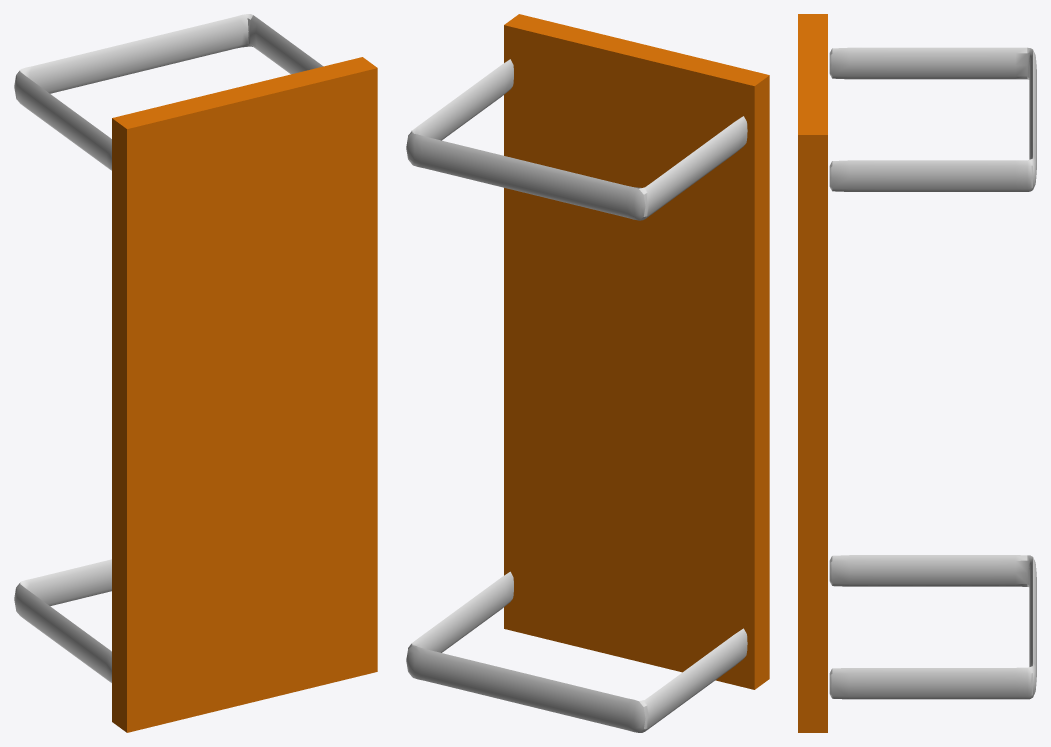
File: Desc.fbx
3 views of the same model, side by side, from view 1: azimuth 30°, elevation 25°; view 2: azimuth 150°, elevation 25°; view 3: azimuth 270°, elevation 25° (orthographic).
Parts seen in each view (by area): view 1: Cube, Cube.001; view 2: Cube, Cube.001; view 3: Cube.001, Cube.
Part boxes in pixels (x1,y1,x2,y2): Cube: (112,57,377,732); Cube.001: (14,14,323,682); Cube: (504,14,769,689); Cube.001: (406,59,747,732); Cube.001: (829,47,1036,699); Cube: (798,14,827,732).
Size of the model in its own units: 385 by 885 by 320.
